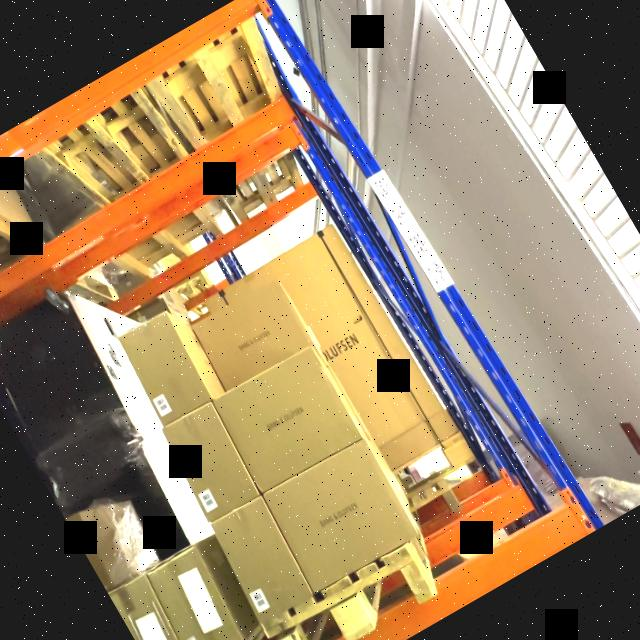box: (263, 439, 419, 594), (212, 347, 362, 494), (189, 279, 314, 394), (208, 498, 317, 626), (162, 402, 262, 520), (118, 314, 212, 425), (144, 546, 246, 640), (66, 498, 146, 592), (108, 573, 198, 640)
